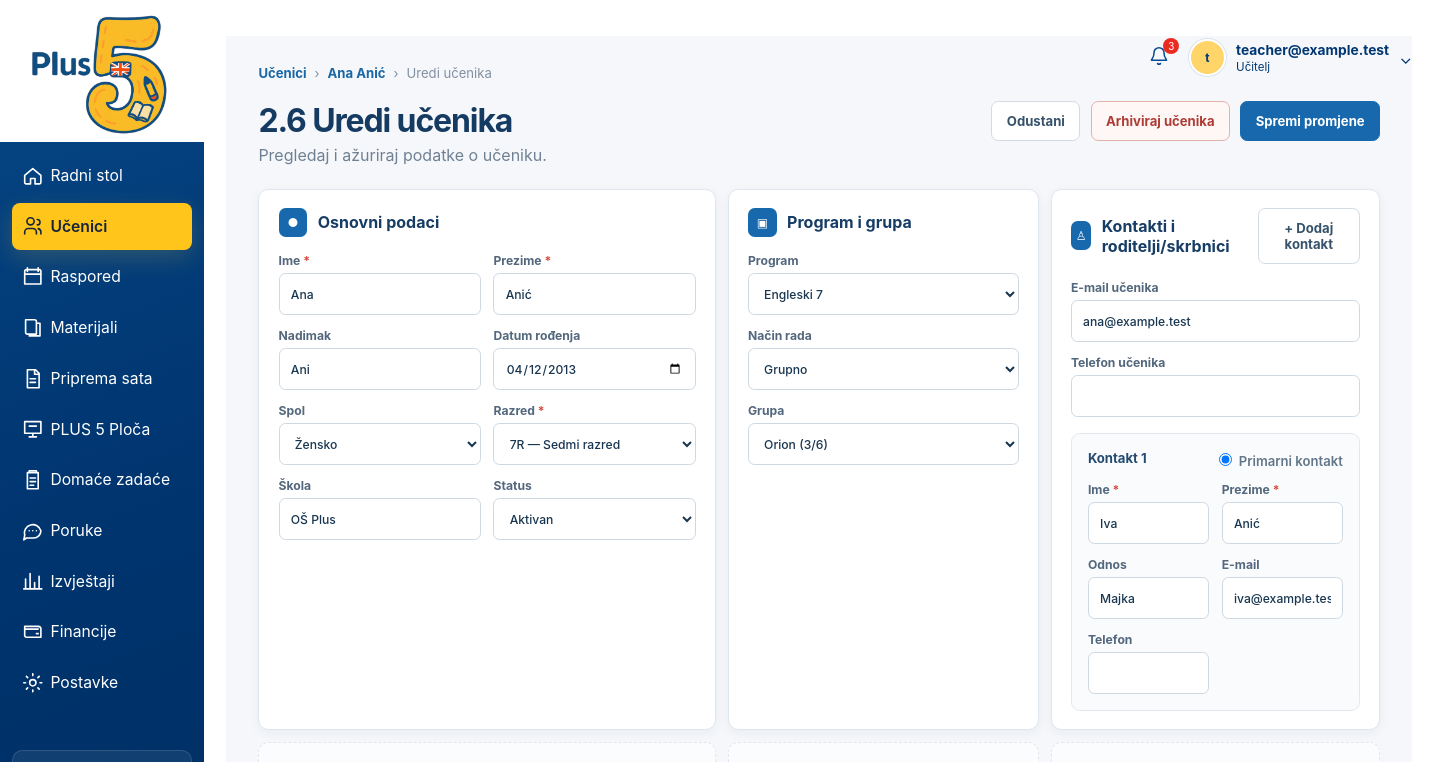
Test case: student editing › loads real data, saves with rowversion and returns to the dossier
This screenshot has width=1440, height=762.
Expected: the heading "2.6 Uredi učenika" is shown, [258,101,547,140]
Replace the text in the field labelled "Ime *" below "Osnovni podaci" with "Anamarija" at (380, 294), box [279,273,481,315]
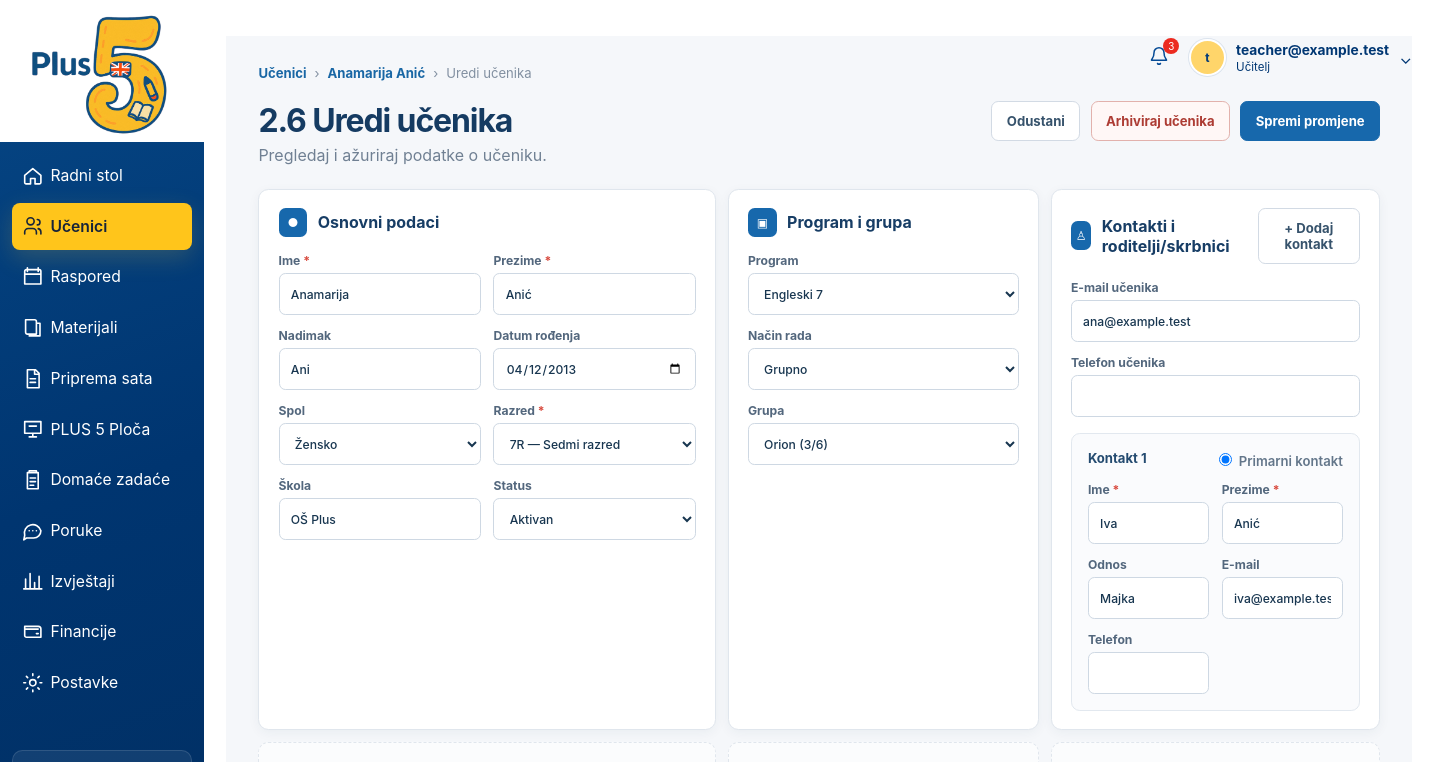
Click the button "Spremi promjene".
click(1310, 121)  # box [1240,101,1380,141]
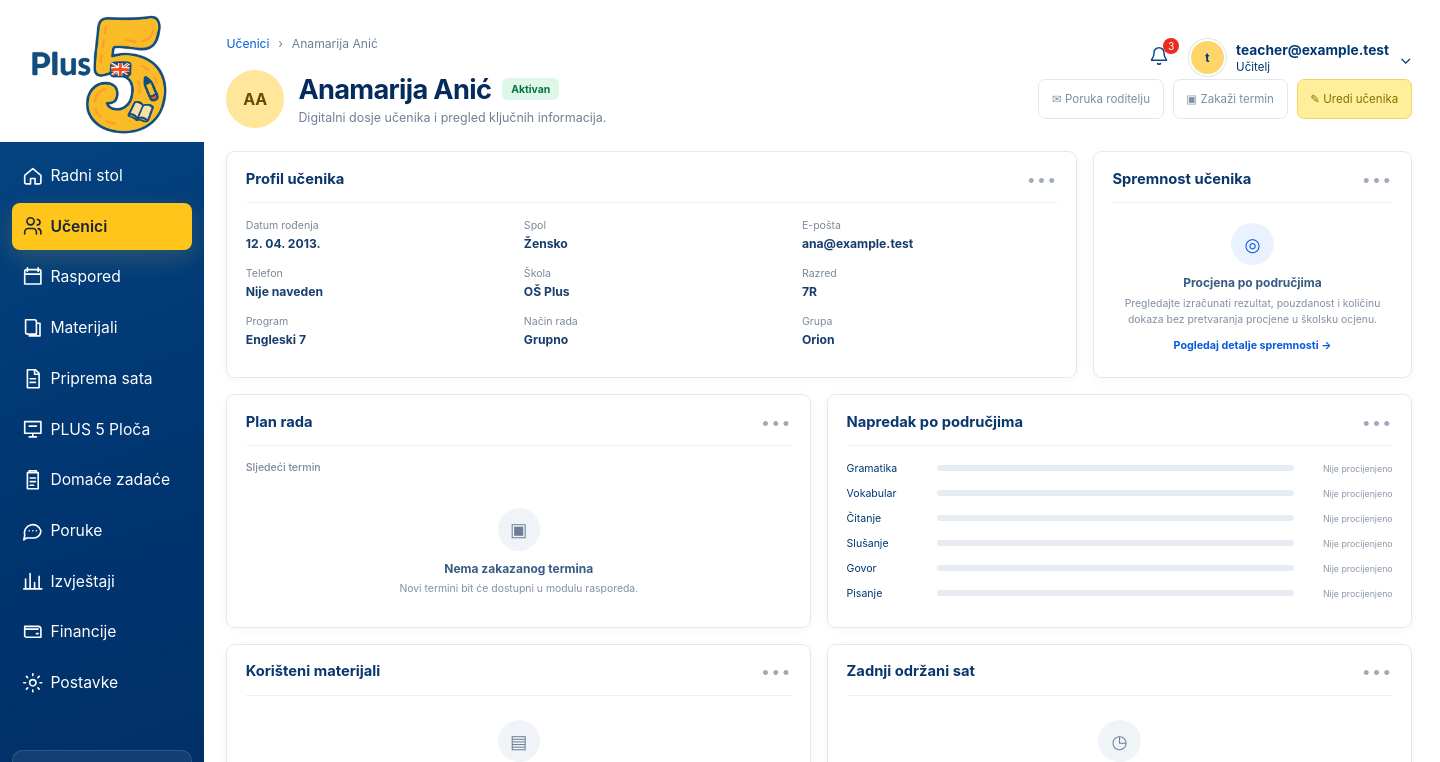
Expected: the heading "Anamarija Anić" is shown, [298,73,491,106]
